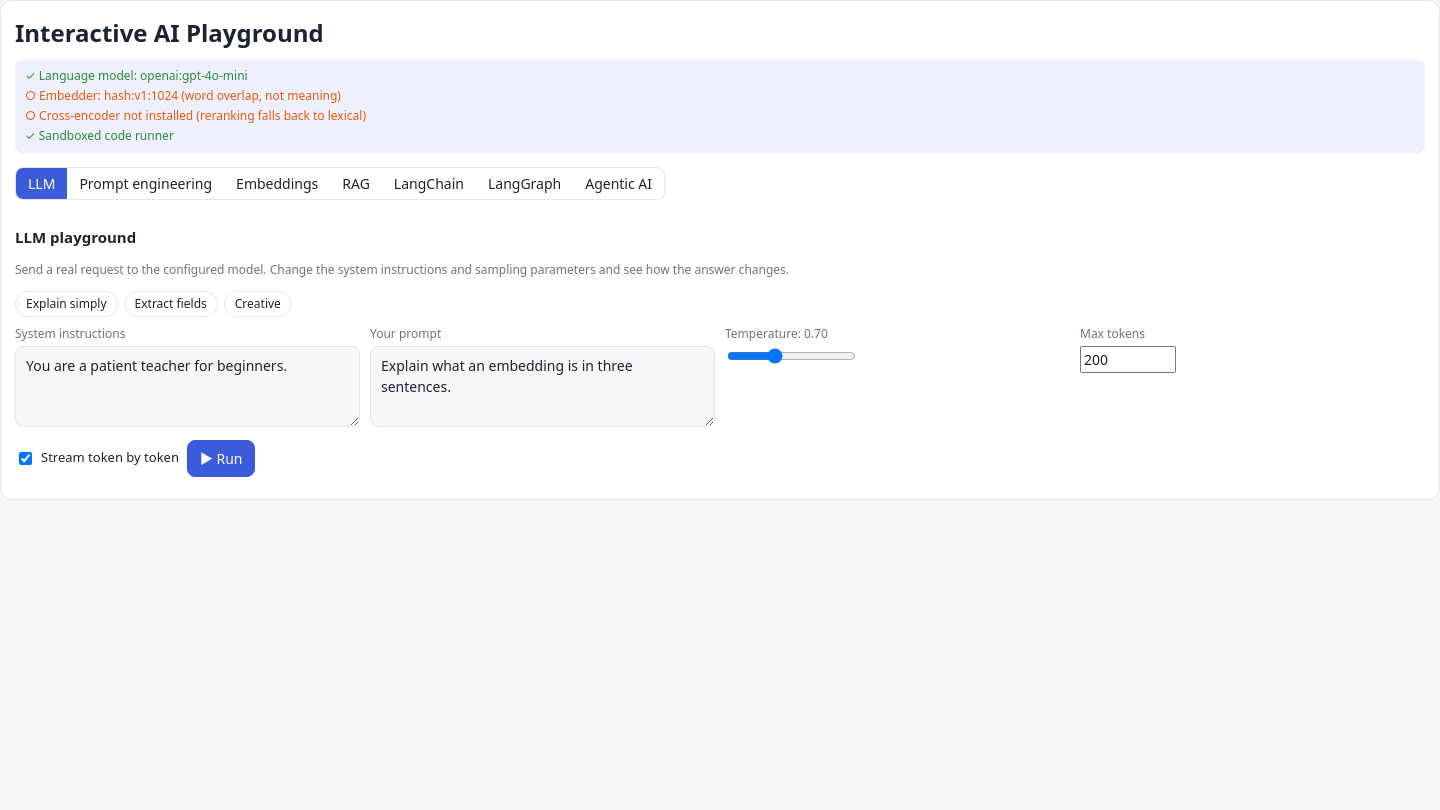
Test: Playground › Prompt engineering: fills few-shot templates, compares outputs and shows the differences
Expected: the list named "What is available on this server" is shown, x1=15 y1=59 x2=1425 y2=153
Click the tab "Prompt engineering" at [146, 184], box x1=67 y1=168 x2=224 y2=199
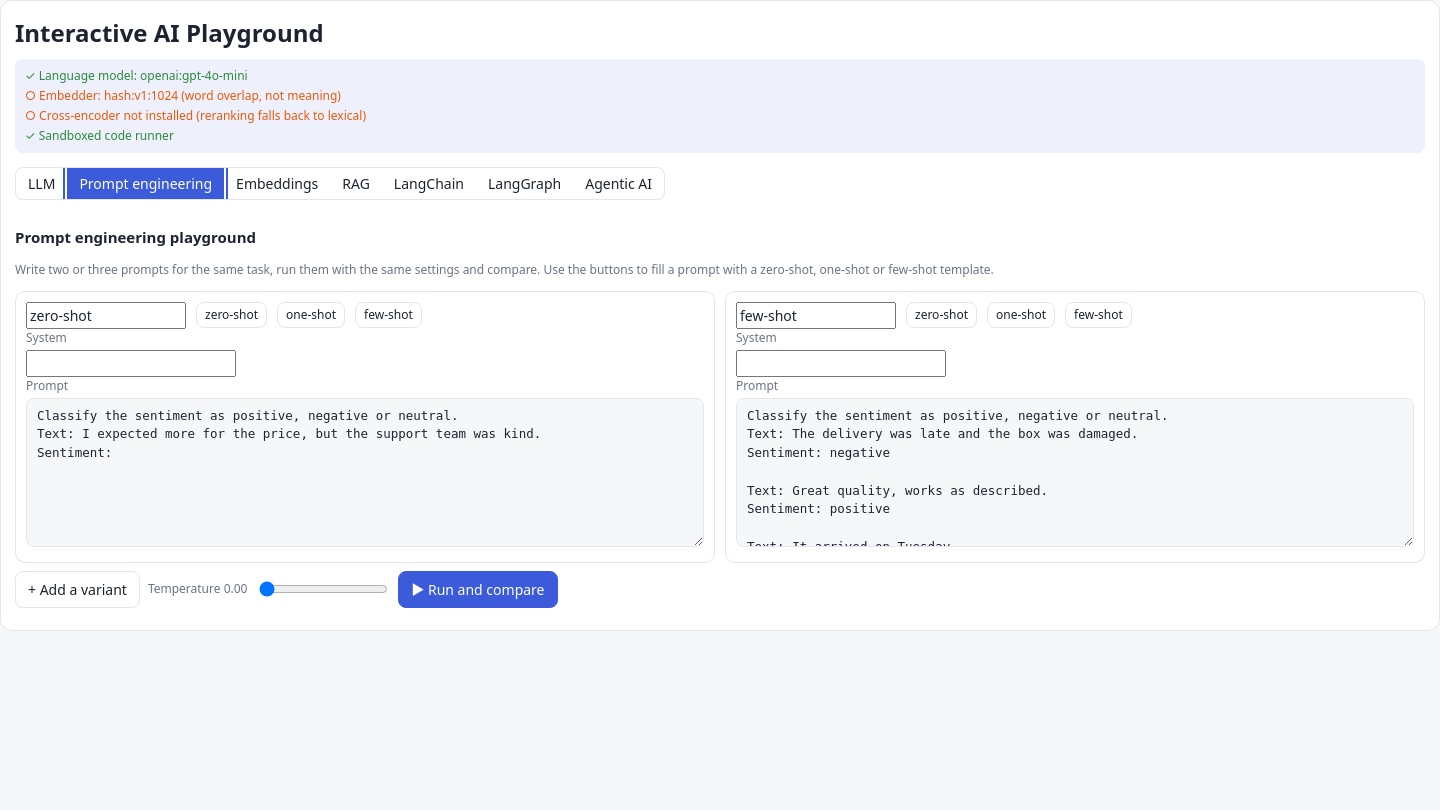
Click the button with aria-label "Variant 1: one-shot template" at [311, 315], box x1=277 y1=302 x2=345 y2=328
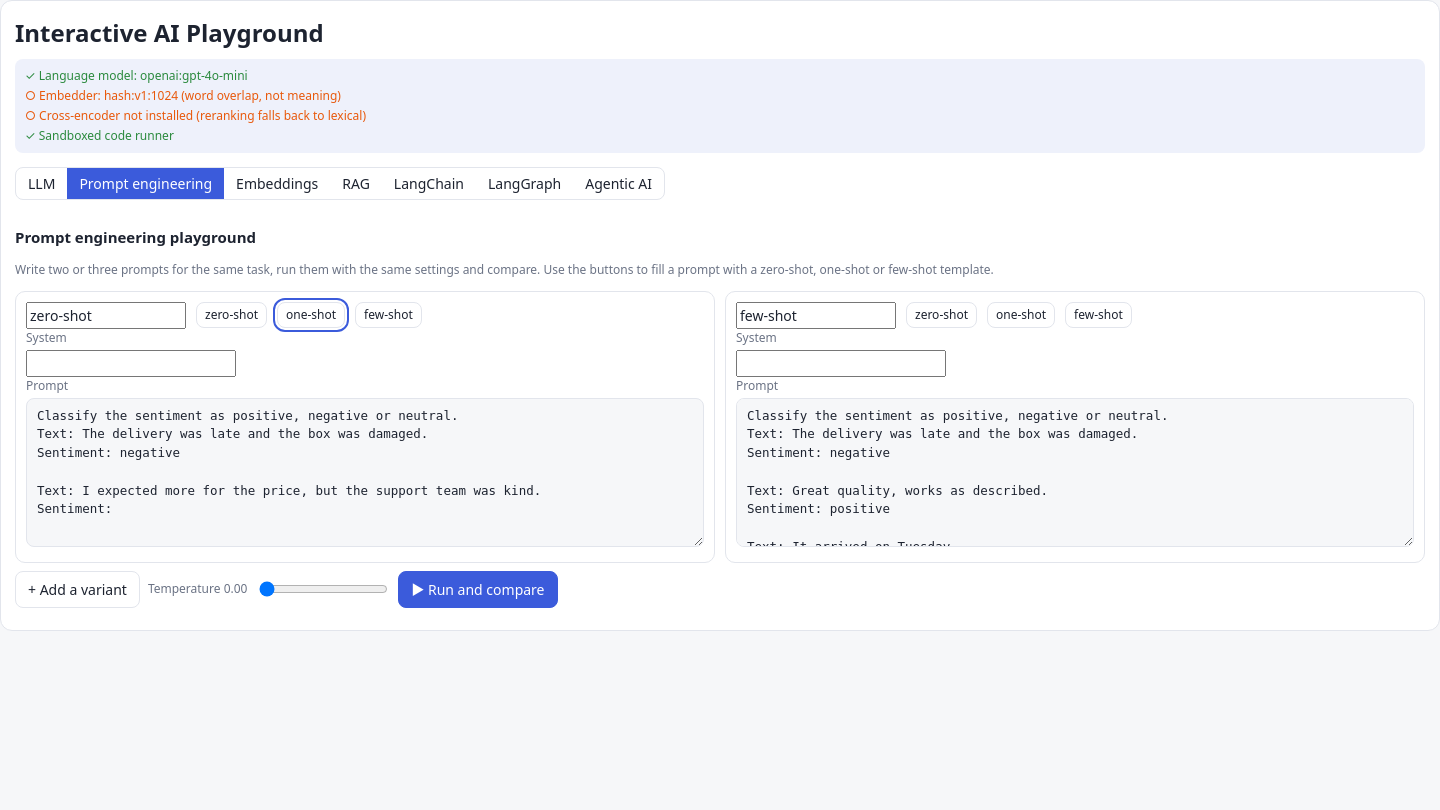
Click the button "▶ Run and compare" at [478, 589], box x1=398 y1=571 x2=558 y2=608
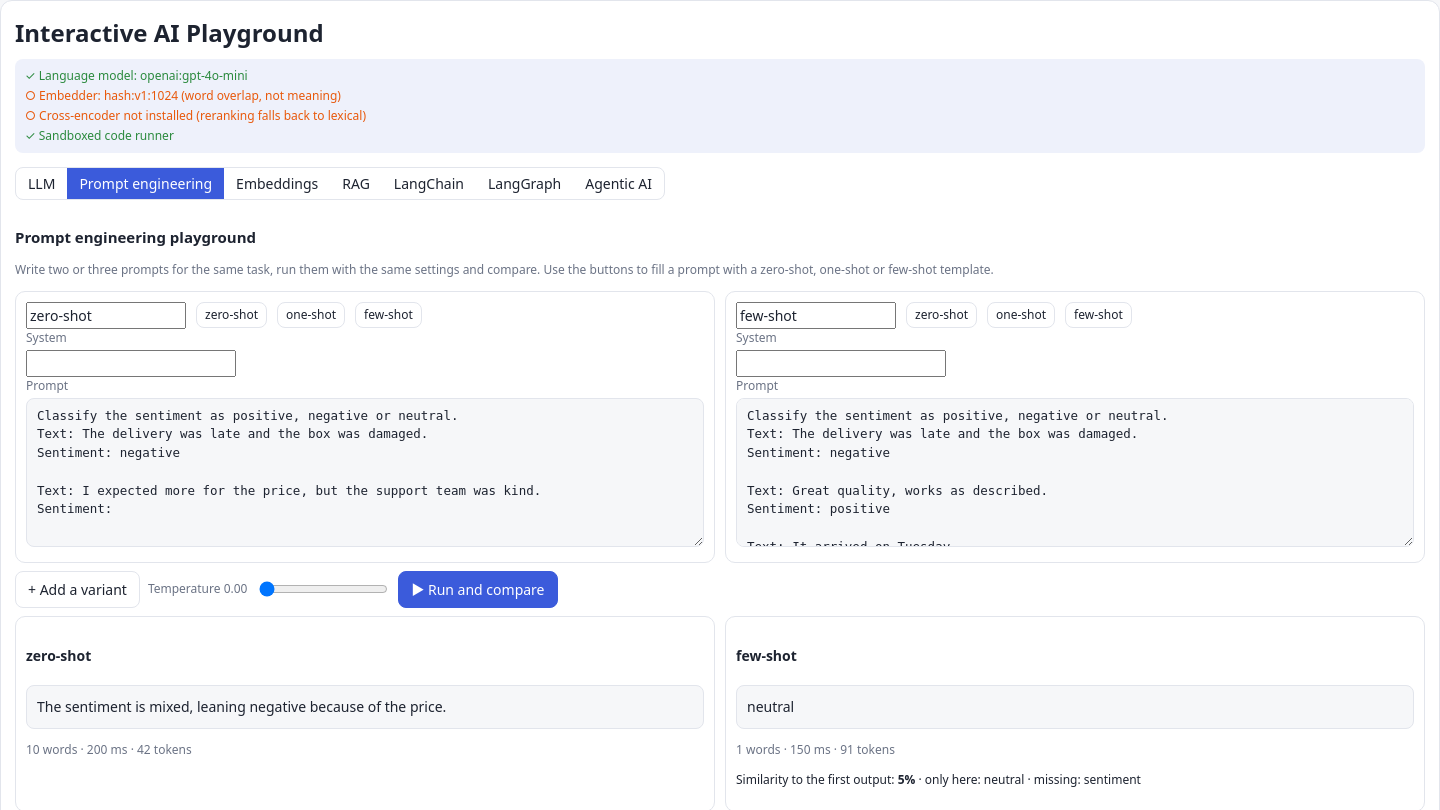
Expected: the text "Similarity to the first output" shows "5%", x1=736 y1=771 x2=1141 y2=788
Expected: the text "Similarity to the first output" shows "only here: neutral", x1=736 y1=771 x2=1141 y2=788
